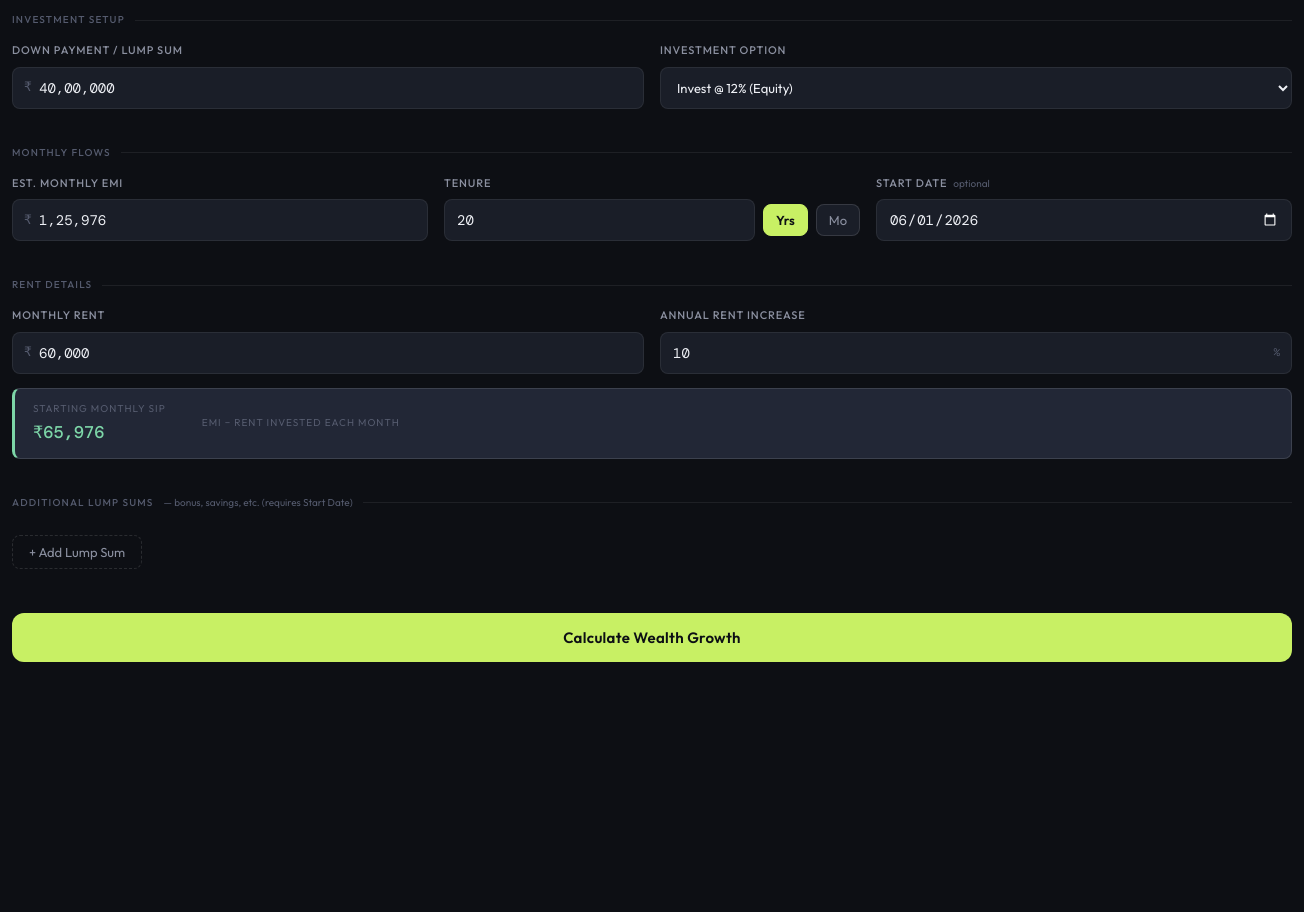
Test: RentInvestmentPage — lump sum rows › adds a lump sum row when + Add Lump Sum is clicked
Click the button "+ Add Lump Sum": x=77, y=552 [12,535,142,569]
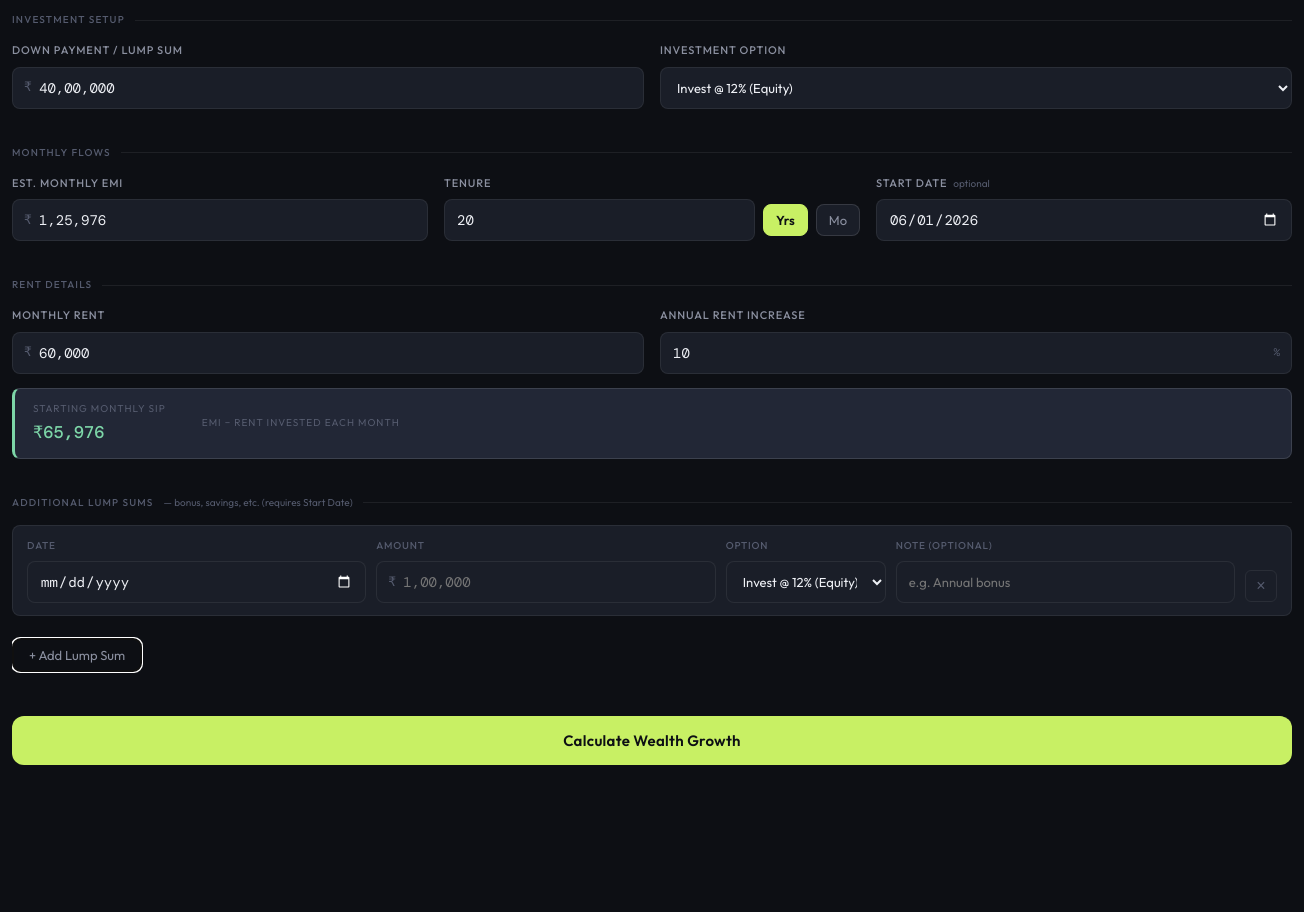
Result: the number of buttons titled "Remove" is 1 at [1245,570,1277,602]
